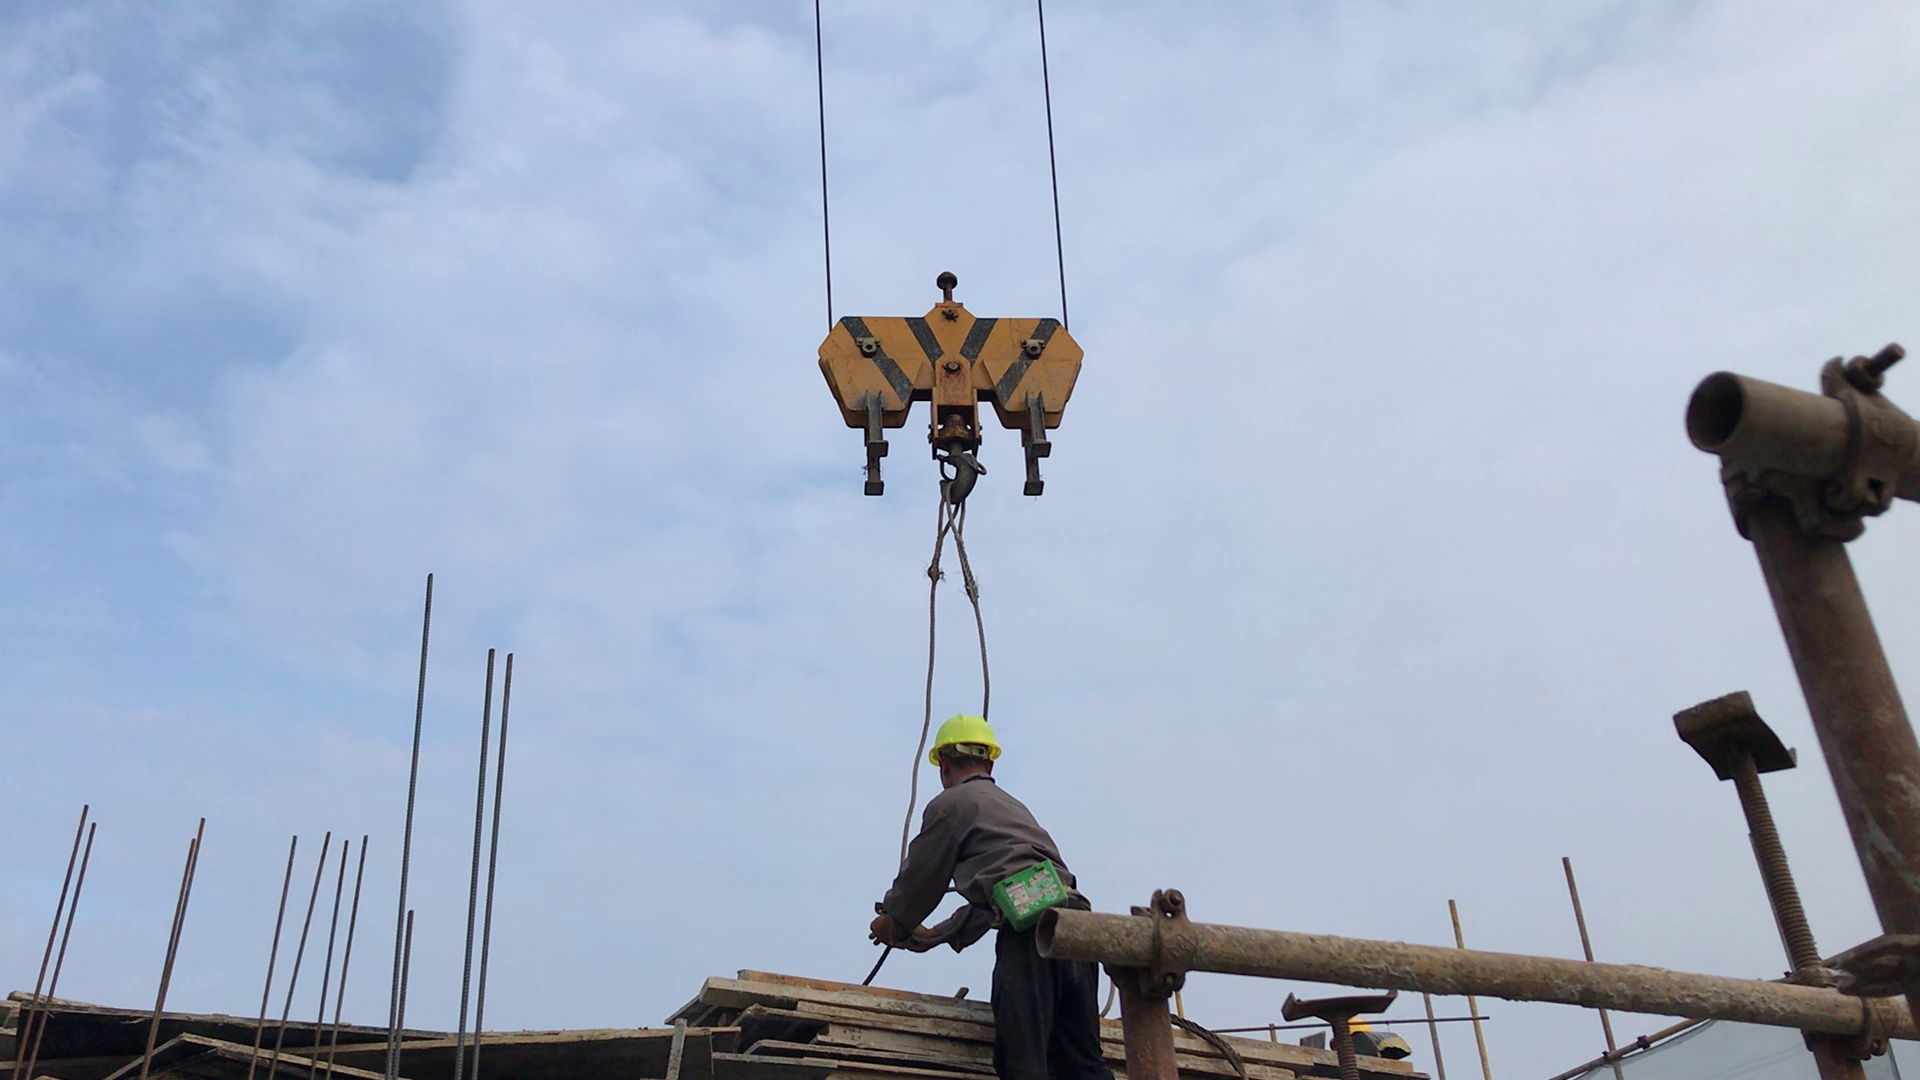board: (696, 971, 1439, 1080)
helmet: (922, 715, 1011, 764)
hook: (800, 249, 1097, 511)
person: (843, 708, 1177, 1068)
